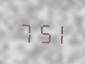five: (34, 19, 48, 44)
one: (49, 20, 63, 44)
seven: (18, 19, 32, 43)
